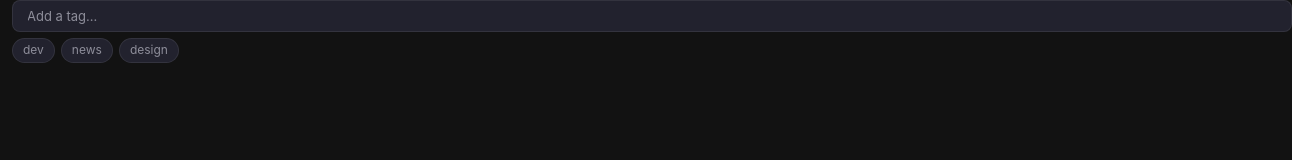
Test case: TagInput › narrows suggestions by what has been typed
Type "de" into the field named "add tag" at (655,16), box [27,8,1283,24]
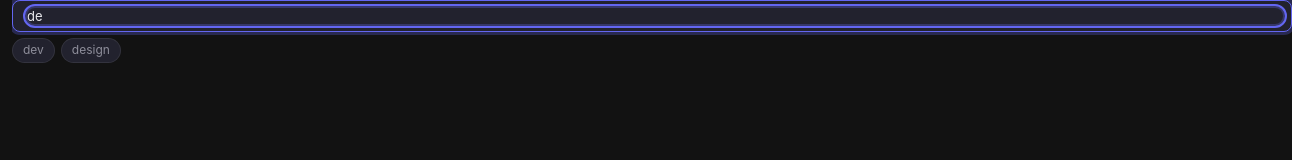
Check: the buttons read "dev", "design", in this order, box [12,38,55,63]; [61,38,121,63]
